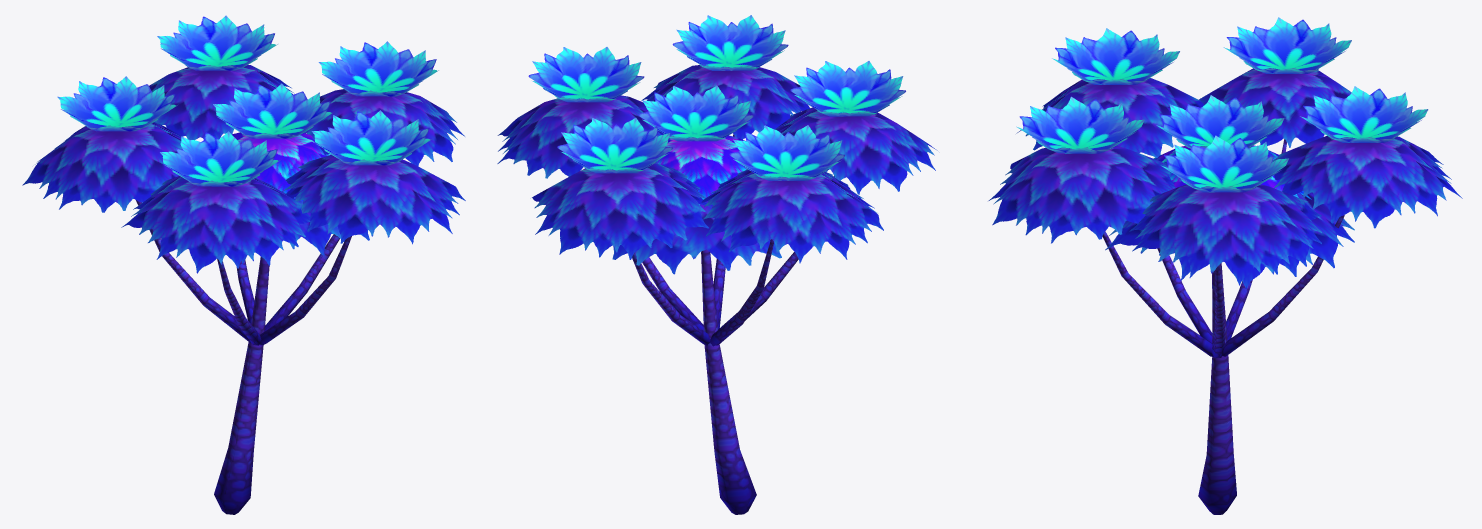
Rendered from Blue_Tree_05c.FBX.
3 renders of one model, left to right at view 1: azimuth 30°, elevation 25°; view 2: azimuth 150°, elevation 25°; view 3: azimuth 270°, elevation 25°, orthographic. The views are drawn at different scales.
Parts seen in each view (by area): view 1: Blue_Tree_05c; view 2: Blue_Tree_05c; view 3: Blue_Tree_05c.
Boxes of the visible parts, bbox=[...] form: Blue_Tree_05c: bbox=[22, 15, 465, 514]; Blue_Tree_05c: bbox=[497, 15, 937, 514]; Blue_Tree_05c: bbox=[988, 17, 1462, 514].
Size of the model in its own units: 381 by 375 by 386.
